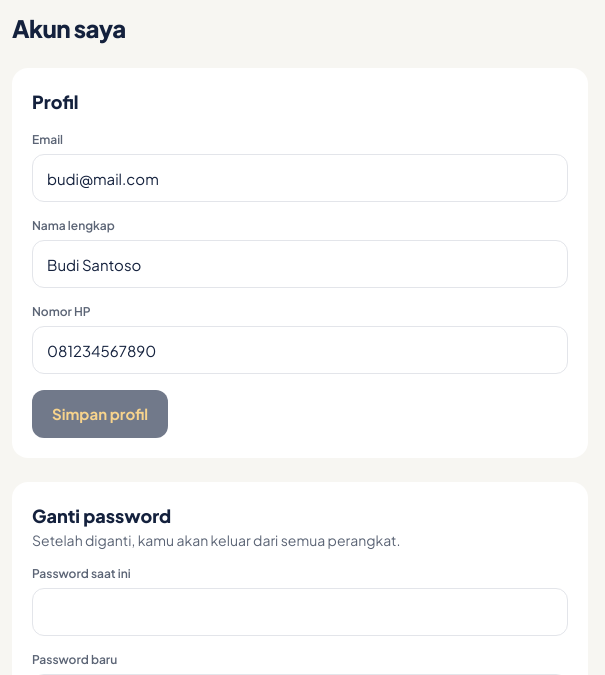
Scenario: AccountPage — profil › PHONE_TAKEN dari backend → pesan di bawah field nomor HP
This screenshot has width=605, height=675.
Replace the text in the field labelled "Nomor HP" with "081298765432" at (300, 350), box [32, 326, 568, 374]
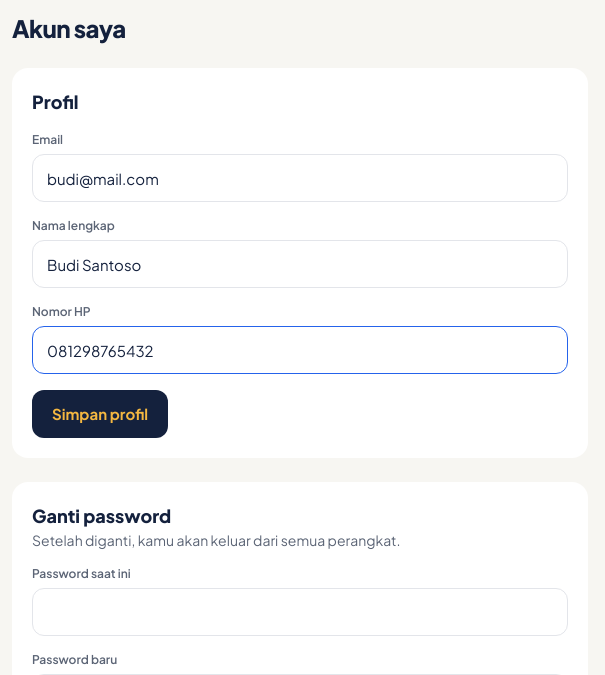
Click the button "Simpan profil" at (100, 414), box [32, 390, 168, 438]
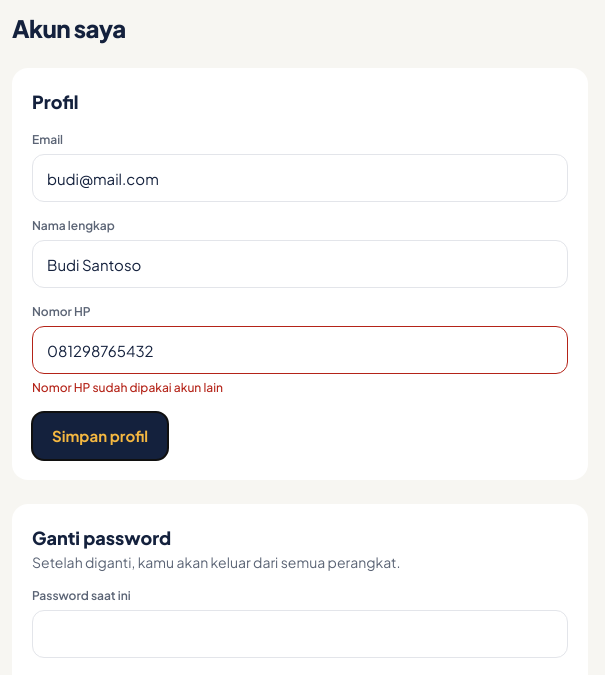
Now the text "Nomor HP sudah dipakai akun lain" is shown, box [32, 380, 223, 395]
